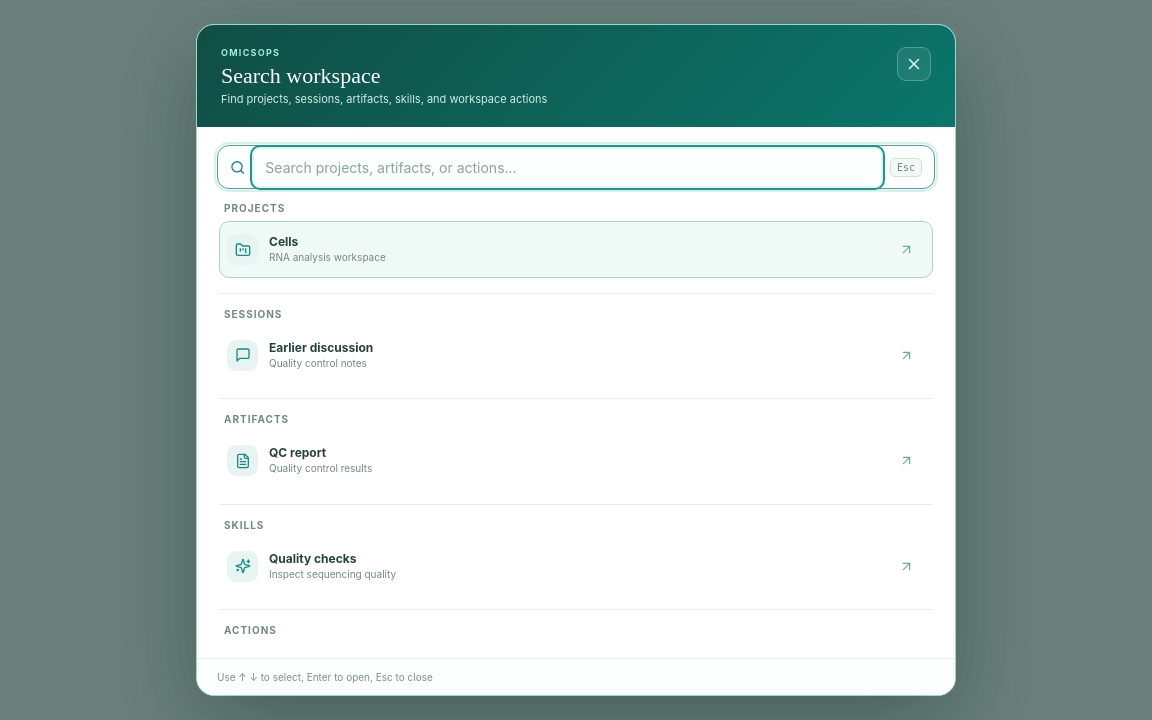
Test: WorkspaceSearchDialog › groups supplied entries and filters labels and descriptions case-insensitively
This screenshot has width=1152, height=720.
Check: the heading "Projects" is shown, box [224, 202, 285, 214]
Check: the heading "Sessions" is shown, box [224, 308, 282, 320]
Step 1. Type "SEQUENCING" into the search field named "Search workspace content" → point(568, 167), box [254, 149, 881, 186]
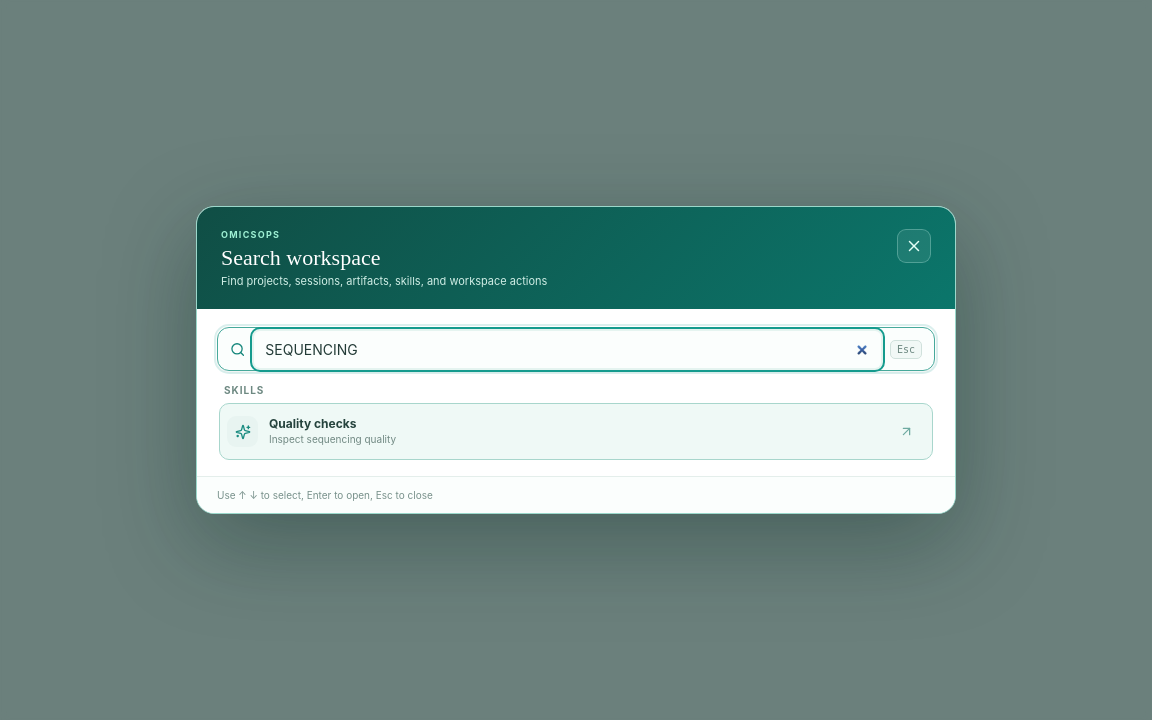
Check: the text "Quality checks" is shown, box [269, 416, 356, 431]
Check: the button "Cells" is gone
